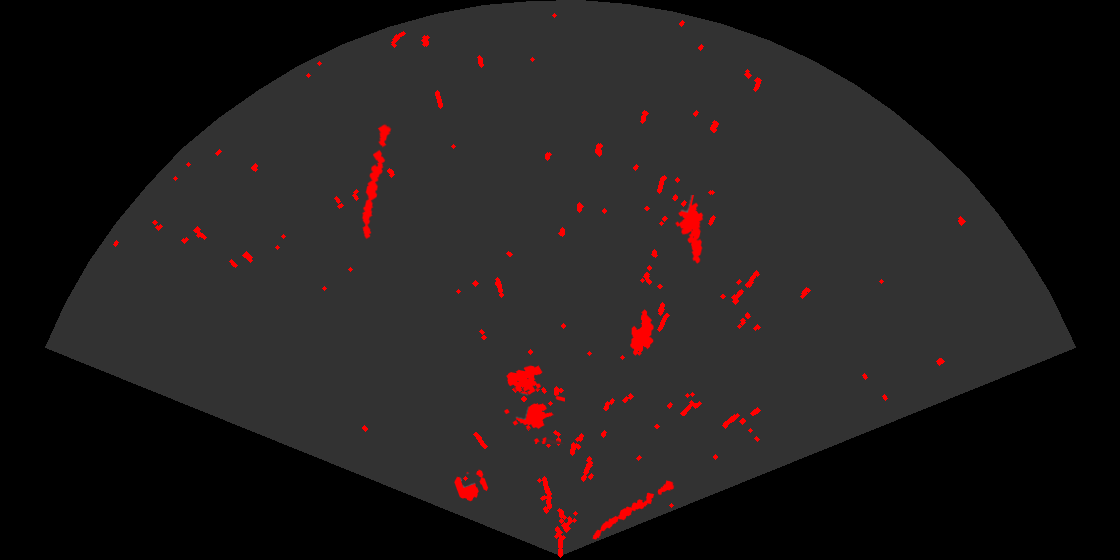AUV: (629, 308, 655, 357)
ball: (453, 468, 490, 503)
cage: (502, 364, 565, 444)
chain: (591, 479, 676, 541), (360, 122, 393, 241)
frogman: (673, 195, 705, 265)
